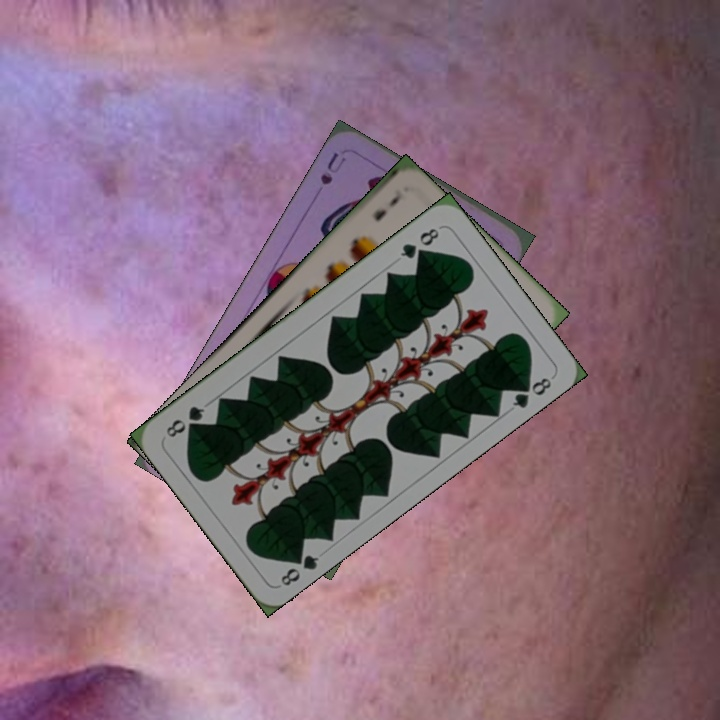E7: (369, 185, 405, 224)
G8: (276, 546, 322, 589), (396, 223, 442, 262)
SU: (316, 148, 349, 188)
